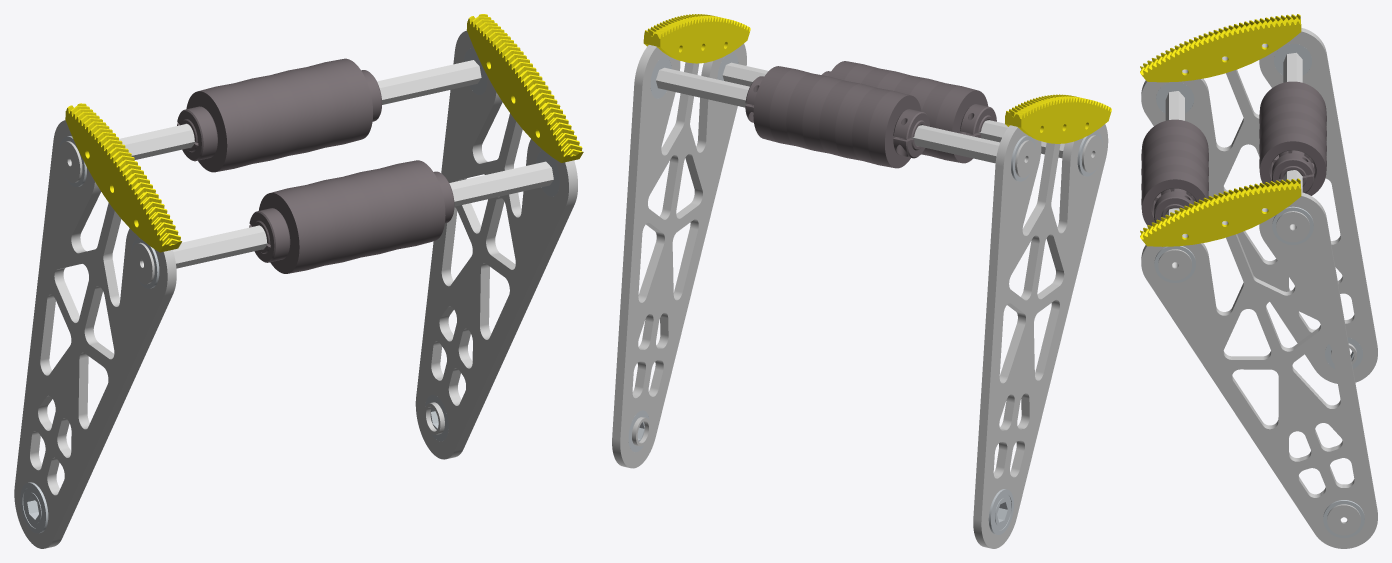
3 views of the same model, side by side, from view 1: azimuth 30°, elevation 25°; view 2: azimuth 150°, elevation 25°; view 3: azimuth 270°, elevation 25° (orthographic). The views are drawn at different scales.
Visible parts, largest first — view 1: occurrence of Part 1 (7) (×2), occurrence of 2" OD 1/2" Hex ID Stealth Wheel 40A (am-3155) (×8), occurrence of Spur gear (352 teeth) (×2), occurrence of Part 1 (11) (×2), occurrence of am-1238a 500Hex Collar Clamp Body (×2), occurrence of Part 1 (6) (×2), occurrence of .5" Hex ID 1.125" OD Flanged Bearing (217-2734; view 2: occurrence of Part 1 (7) (×2), occurrence of 2" OD 1/2" Hex ID Stealth Wheel 40A (am-3155) (×8), occurrence of Spur gear (352 teeth) (×2), occurrence of Part 1 (11) (×2), occurrence of am-1238a 500Hex Collar Clamp Body (×2), occurrence of Part 1 (6) (×2), occurrence of .5" Hex ID 1.125" OD Flanged Bearing (217-2734; view 3: occurrence of Part 1 (7) (×2), occurrence of Spur gear (352 teeth) (×2), occurrence of 2" OD 1/2" Hex ID Stealth Wheel 40A (am-3155) (×8), occurrence of .5" Hex ID 1.125" OD Flanged Bearing (217-2734 (×6), occurrence of Part 1 (6) (×3), occurrence of am-1238a 500Hex Collar Clamp Body (×2), occurrence of Part 1 (11) (×2).
Boxes of the visible parts, bbox=[...] form: occurrence of Part 1 (7) (×2): bbox=[14, 30, 577, 548]; occurrence of 2" OD 1/2" Hex ID Stealth Wheel 40A (am-3155) (×8): bbox=[186, 58, 445, 273]; occurrence of Spur gear (352 teeth) (×2): bbox=[65, 14, 583, 252]; occurrence of Part 1 (11) (×2): bbox=[69, 60, 553, 268]; occurrence of am-1238a 500Hex Collar Clamp Body (×2): bbox=[177, 106, 290, 262]; occurrence of Part 1 (6) (×2): bbox=[59, 141, 154, 284]; occurrence of .5" Hex ID 1.125" OD Flanged Bearing (217-2734: bbox=[20, 482, 48, 533]; occurrence of Part 1 (7) (×2): bbox=[612, 43, 1108, 548]; occurrence of 2" OD 1/2" Hex ID Stealth Wheel 40A (am-3155) (×8): bbox=[753, 61, 988, 168]; occurrence of Spur gear (352 teeth) (×2): bbox=[643, 14, 1111, 143]; occurrence of Part 1 (11) (×2): bbox=[656, 62, 1093, 163]; occurrence of am-1238a 500Hex Collar Clamp Body (×2): bbox=[893, 104, 996, 158]; occurrence of Part 1 (6) (×2): bbox=[1015, 135, 1102, 177]; occurrence of .5" Hex ID 1.125" OD Flanged Bearing (217-2734: bbox=[988, 489, 1013, 534]; occurrence of Part 1 (7) (×2): bbox=[1141, 28, 1377, 548]; occurrence of Spur gear (352 teeth) (×2): bbox=[1140, 14, 1301, 246]; occurrence of 2" OD 1/2" Hex ID Stealth Wheel 40A (am-3155) (×8): bbox=[1141, 81, 1326, 225]; occurrence of .5" Hex ID 1.125" OD Flanged Bearing (217-2734 (×6): bbox=[1154, 44, 1364, 537]; occurrence of Part 1 (6) (×3): bbox=[1158, 211, 1360, 535]; occurrence of am-1238a 500Hex Collar Clamp Body (×2): bbox=[1154, 153, 1314, 223]; occurrence of Part 1 (11) (×2): bbox=[1165, 52, 1302, 267].
Bounding box in the file's own units: 0.2964 × 0.3103 × 0.1782.
